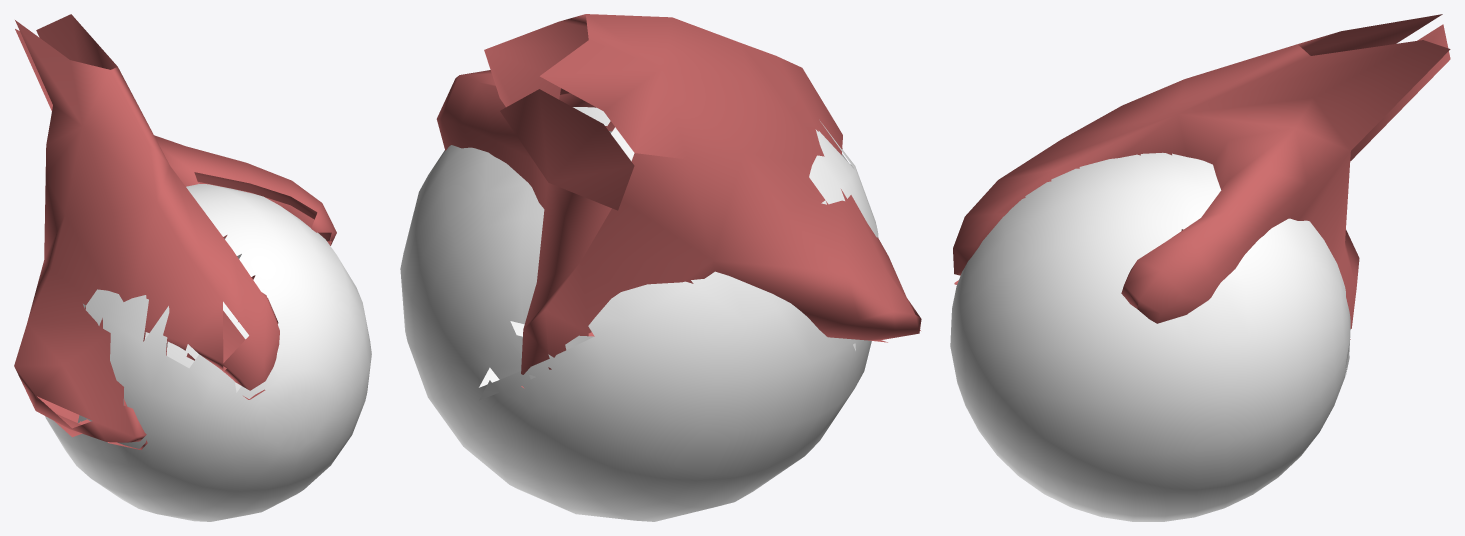
The model's file is foco_pez.obj.
3 renders of one model, left to right at view 1: azimuth 30°, elevation 25°; view 2: azimuth 150°, elevation 25°; view 3: azimuth 270°, elevation 25°, orthographic. The views are drawn at different scales.
Visible parts, largest first — view 1: pasted__polySurface2_pasted__lambert13_0.002_pasted__lambert10.0, pasted__polySurface2_pasted__lambert13_0.002_pasted__lambert13.0; view 2: pasted__polySurface2_pasted__lambert13_0.002_pasted__lambert13.0, pasted__polySurface2_pasted__lambert13_0.002_pasted__lambert10.0; view 3: pasted__polySurface2_pasted__lambert13_0.002_pasted__lambert13.0, pasted__polySurface2_pasted__lambert13_0.002_pasted__lambert10.0.
Boxes of the visible parts, box(x1,y1,x2,y2) form: pasted__polySurface2_pasted__lambert13_0.002_pasted__lambert10.0: box(14, 14, 336, 449); pasted__polySurface2_pasted__lambert13_0.002_pasted__lambert13.0: box(45, 183, 371, 521); pasted__polySurface2_pasted__lambert13_0.002_pasted__lambert13.0: box(400, 107, 878, 521); pasted__polySurface2_pasted__lambert13_0.002_pasted__lambert10.0: box(436, 14, 921, 388); pasted__polySurface2_pasted__lambert13_0.002_pasted__lambert13.0: box(950, 152, 1350, 521); pasted__polySurface2_pasted__lambert13_0.002_pasted__lambert10.0: box(953, 14, 1450, 339).
Bounding box in the file's own units: 2.15 × 2.54 × 2.51.
